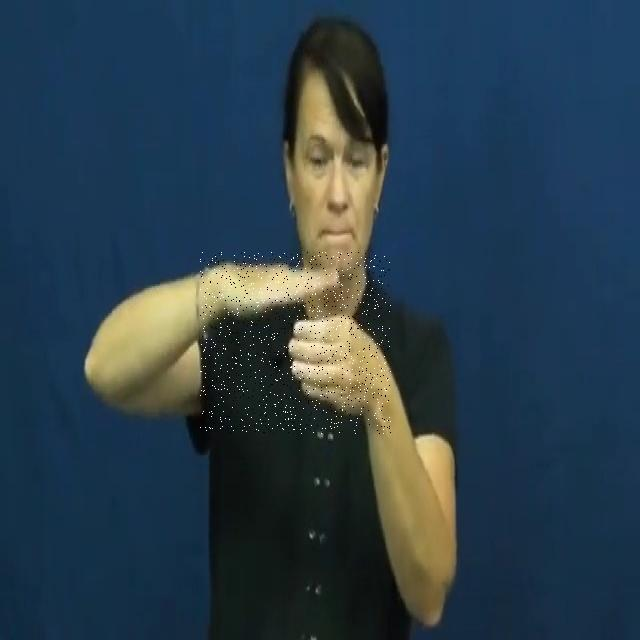lid: (200, 252, 391, 434)
